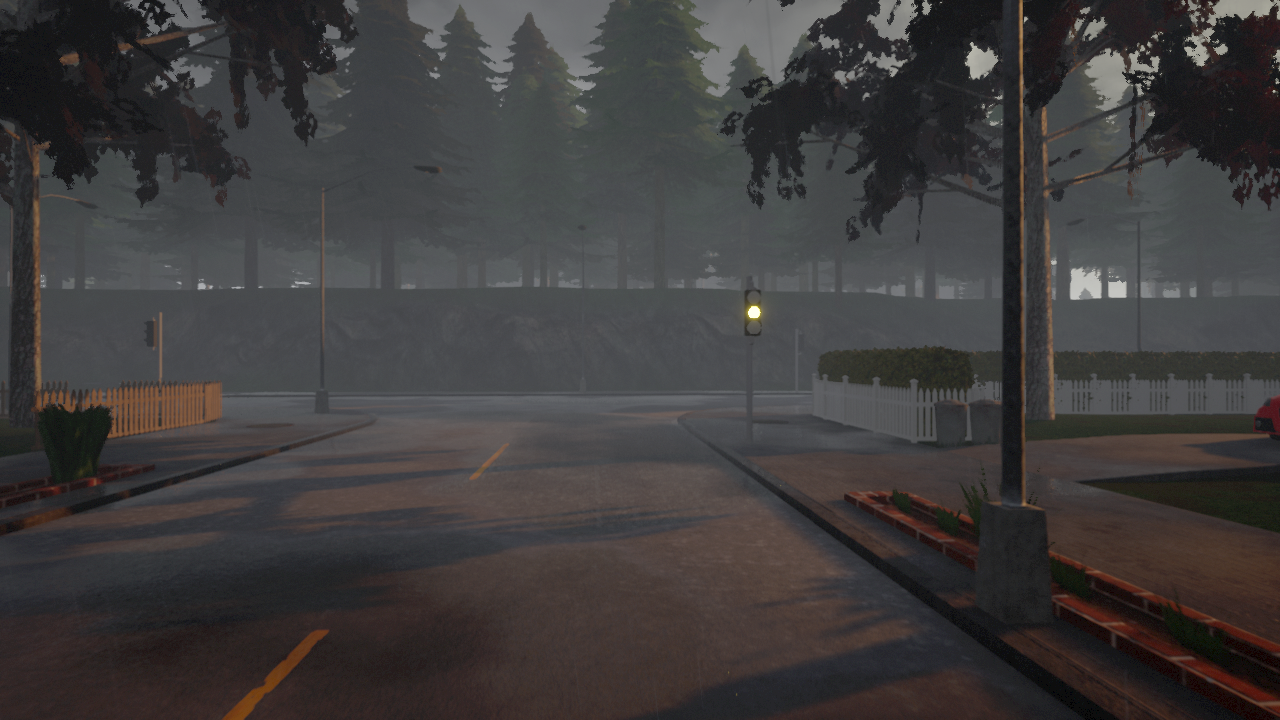yellow: (744, 288, 762, 336)
